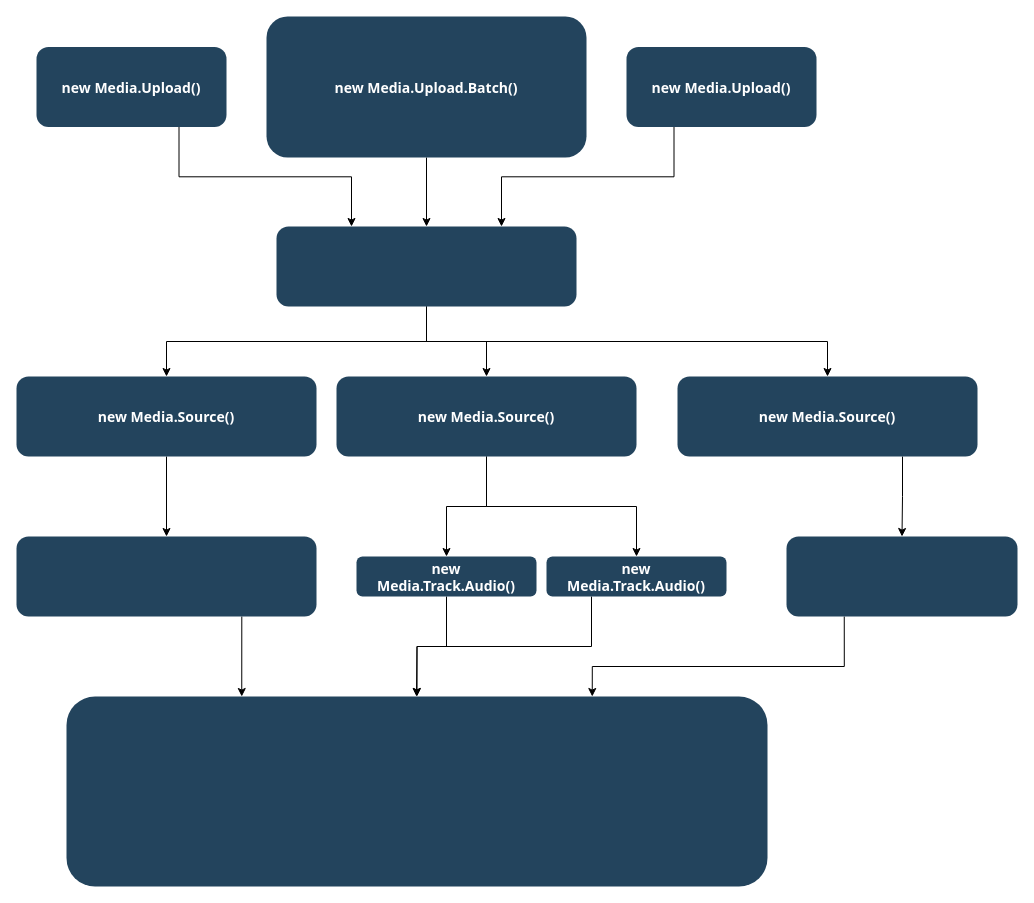
Some shapes in this 1034 by 903 pixel diagram are drawn without their labels. Here are the shapes that lost their labels. From the top down, the centre of each, then its label:
At [426,266]: "new Media.Delivery()".
At [166,576]: "new Media.Track.Video()".
At [901,576]: "new Media.Track.Subtitle()".
At [416,791]: "new Media.Package()".
